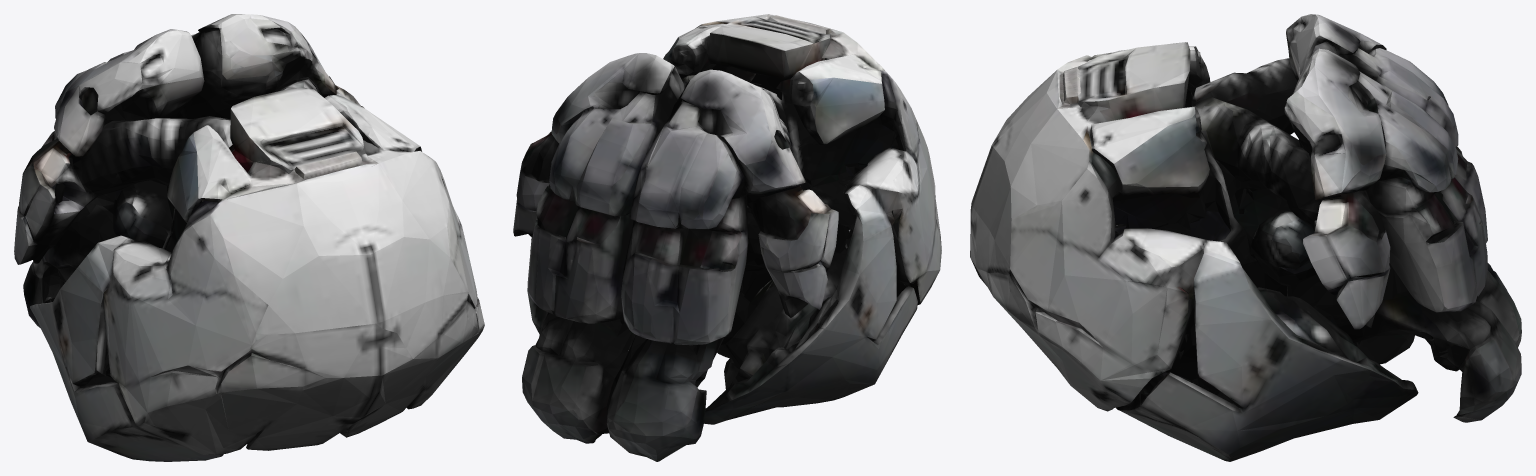
The model's file is prop_hangar_fist.glb.
3 renders of one model, left to right at view 1: azimuth 30°, elevation 25°; view 2: azimuth 150°, elevation 25°; view 3: azimuth 270°, elevation 25°, orthographic. The views are drawn at different scales.
Parts seen in each view (by area): view 1: geometry_0; view 2: geometry_0; view 3: geometry_0.
Part boxes in pixels (x1,y1,x2,y2): geometry_0: (14, 14, 484, 461); geometry_0: (513, 14, 941, 461); geometry_0: (970, 14, 1521, 461).
Bounding box in the file's own units: 0.7059 × 0.7387 × 0.9954.
1 material, 1 textured.
